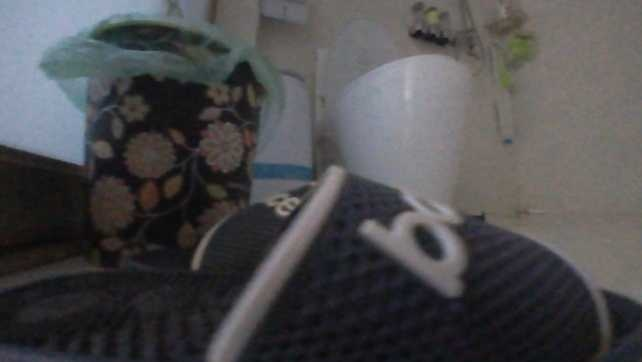toilet: (308, 5, 473, 205)
trash_can: (40, 5, 291, 265)
